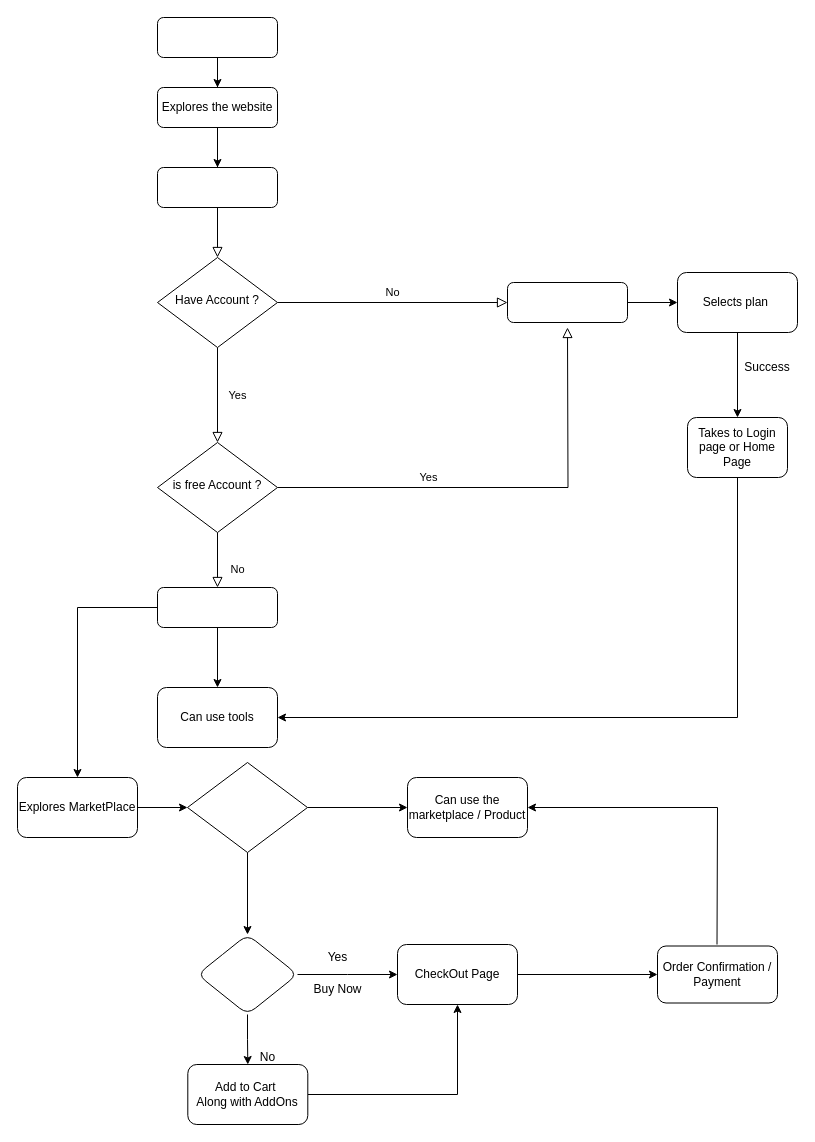
Image size: 815x1142. Some labels were removed from this diagram. Here are the shapes that lost their labels. From the top down, the centre of each, then its label:
the point at 217,37: User enters
the point at 217,187: Explore Tools/ Market place
the point at 567,302: Takes to Subscription page
the point at 217,607: Subscribed User
the point at 247,807: Have package / Product
the point at 247,974: is package ?
